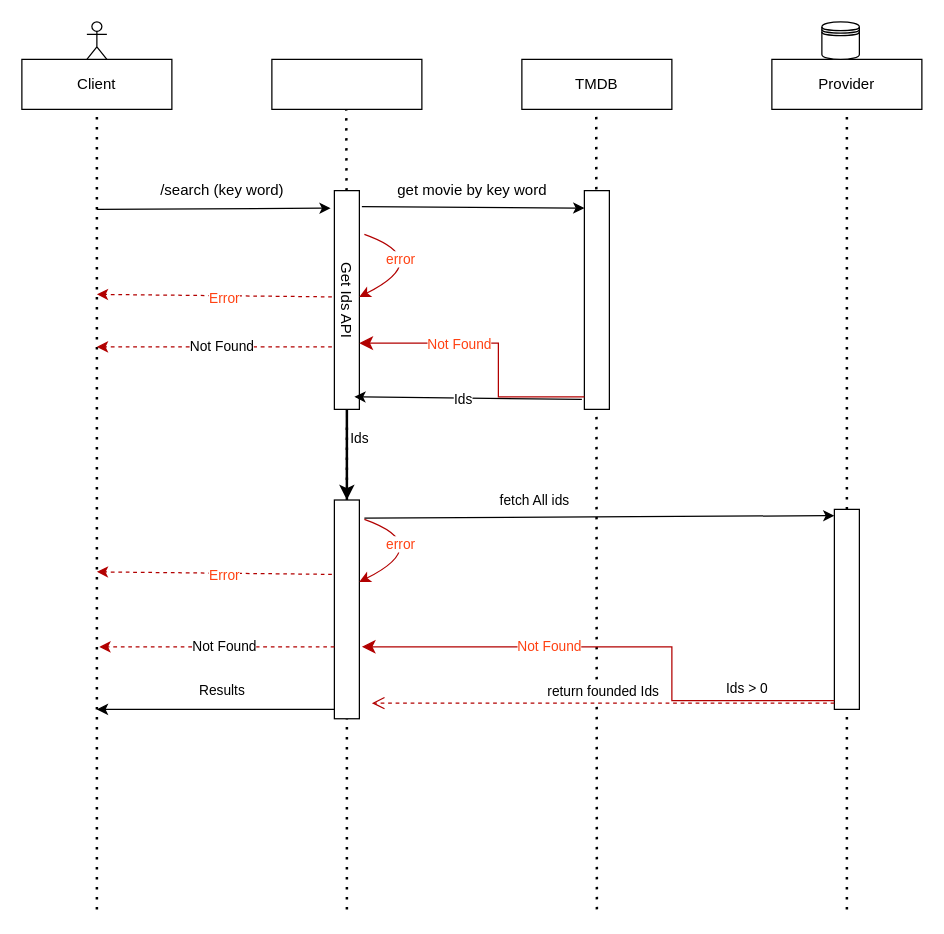
Some shapes in this 944 by 934 pixel diagram are drawn without their labels. The centre of each missing label's shape, as x and y in pixels:
Get Movie API: (x=346, y=609)
Next Js API: (x=346, y=83)
